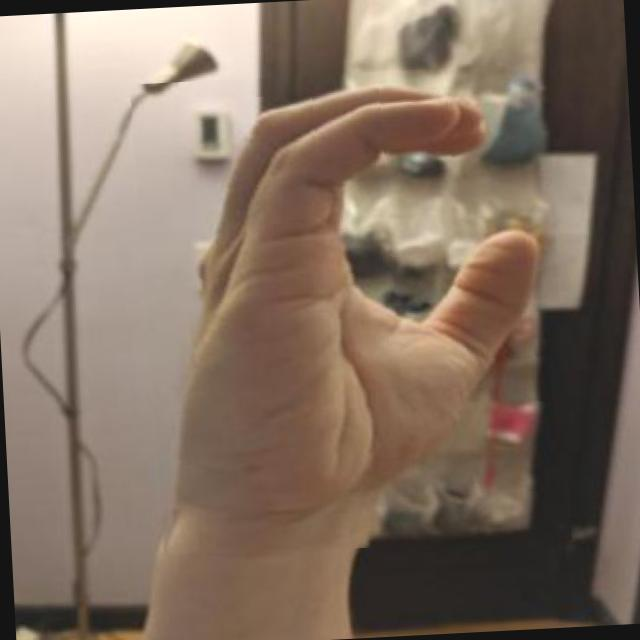C: (129, 63, 572, 562)
